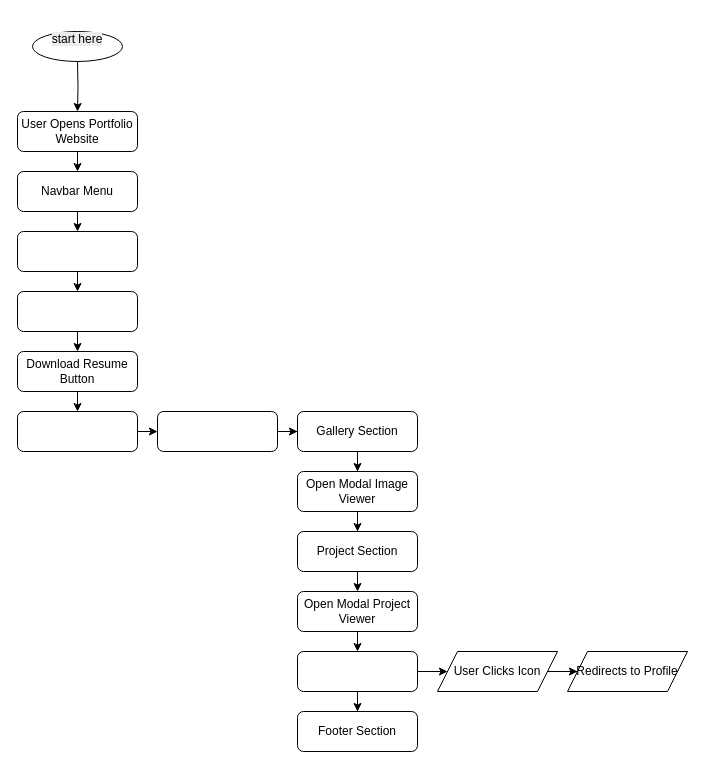
This 705x769 diagram has some shape labels left out. The centre of each missing label's shape, as x and y in pixels:
"About Me Section" goes at point 77,431.
"Carousel Autoplays" goes at point 77,311.
"Contact Section" goes at point 357,671.
"Hero Section]" goes at point 77,251.
"Skills section" goes at point 217,431.
